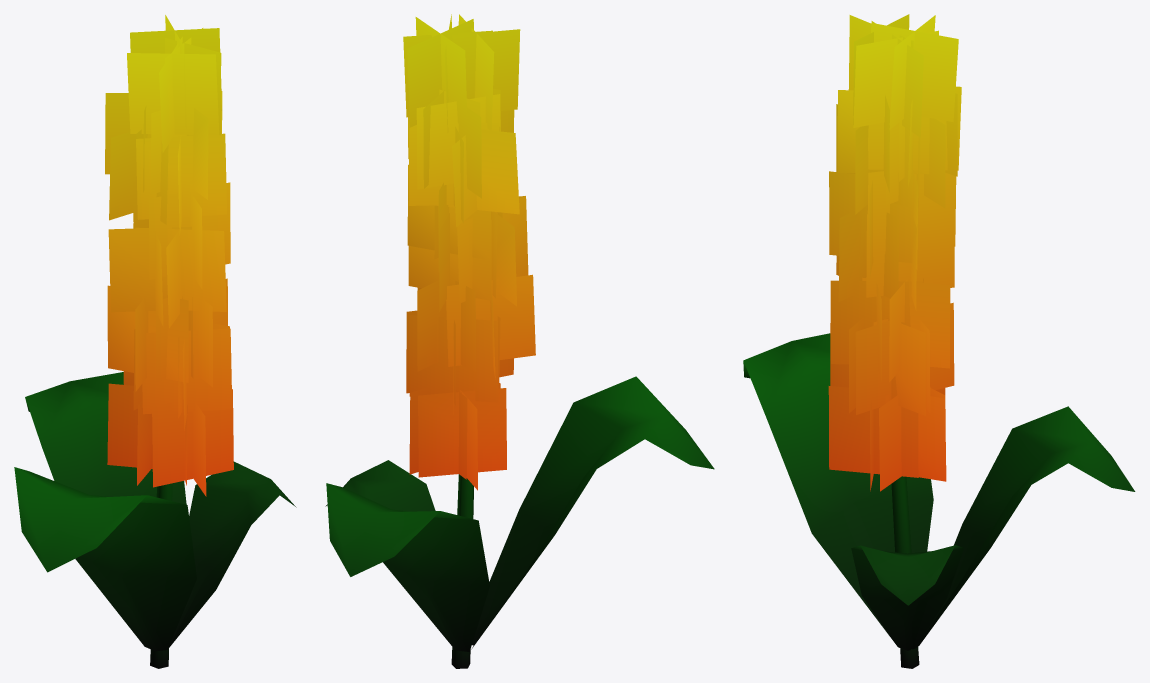
File: lupine.obj
3 views of the same model, side by side, from view 1: azimuth 30°, elevation 25°; view 2: azimuth 150°, elevation 25°; view 3: azimuth 270°, elevation 25° (orthographic). The views are drawn at different scales.
Visible parts, largest first — view 1: LupineFlower; view 2: LupineFlower; view 3: LupineFlower.
Boxes of the visible parts, <box> form: LupineFlower: <box>14,15,296,668</box>; LupineFlower: <box>325,14,714,668</box>; LupineFlower: <box>743,14,1135,668</box>.
Bounding box in the file's own units: 0.4447 × 0.8373 × 0.4615.
